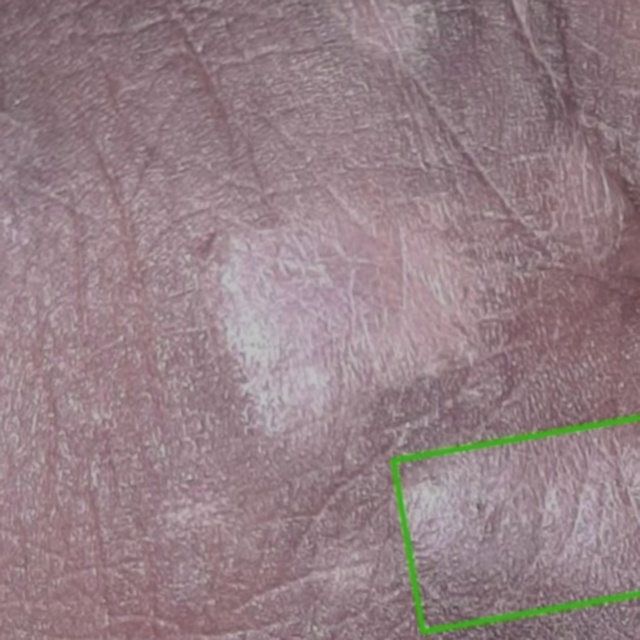Eczema: (393, 417, 639, 631)
